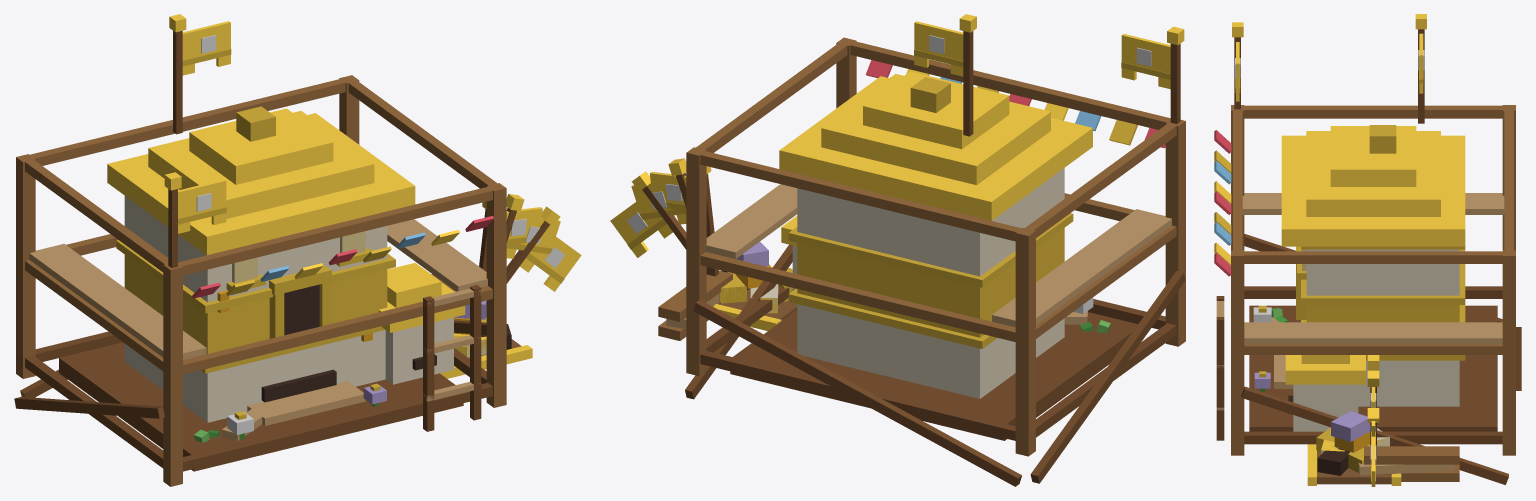
The model's file is bee-home.glb.
3 renders of one model, left to right at view 1: azimuth 30°, elevation 25°; view 2: azimuth 150°, elevation 25°; view 3: azimuth 270°, elevation 25°, orthographic. The views are drawn at different scales.
Visible parts, largest first — view 1: scaffold-mesh, built-mesh, dismantle-50-mesh, dismantle-75-mesh, dismantle-25-mesh, banner, scaffold-banner, dismantle-25-banner, flag-pole, dismantle-50-banner, scaffold-flag-pole, dismantle-25-flag-pole (+1 smaller); view 2: scaffold-mesh, built-mesh, dismantle-50-mesh, dismantle-75-mesh, banner, scaffold-banner, dismantle-25-banner, dismantle-25-mesh, flag-pole, dismantle-50-banner, scaffold-flag-pole, dismantle-75-banner (+1 smaller); view 3: scaffold-mesh, built-mesh, dismantle-50-mesh, dismantle-75-mesh, dismantle-25-mesh, flag-pole, scaffold-flag-pole, banner.
Part boxes in pixels (x1,y1,x2,y2): scaffold-mesh: (14, 75, 506, 486); built-mesh: (107, 106, 465, 471); dismantle-50-mesh: (59, 257, 532, 454); dismantle-75-mesh: (116, 196, 532, 442); dismantle-25-mesh: (201, 291, 526, 441); banner: (182, 21, 231, 75); scaffold-banner: (178, 179, 226, 233); dismantle-25-banner: (520, 229, 581, 291); flag-pole: (169, 14, 186, 134); dismantle-50-banner: (506, 215, 560, 263); scaffold-flag-pole: (164, 172, 181, 267); dismantle-25-flag-pole: (506, 206, 560, 283); scaffold-mesh: (658, 37, 1185, 486); built-mesh: (730, 71, 1110, 440); dismantle-50-mesh: (719, 216, 1137, 423); dismantle-75-mesh: (713, 168, 1110, 398); banner: (914, 21, 963, 76); scaffold-banner: (1121, 34, 1170, 89); dismantle-25-banner: (610, 197, 672, 257); dismantle-25-mesh: (719, 242, 1110, 331); flag-pole: (959, 14, 976, 136); dismantle-50-banner: (631, 181, 686, 229); scaffold-flag-pole: (1167, 26, 1184, 123); dismantle-75-banner: (649, 172, 686, 211); scaffold-mesh: (1214, 105, 1521, 484); built-mesh: (1249, 125, 1497, 431); dismantle-50-mesh: (1249, 305, 1497, 485); dismantle-75-mesh: (1253, 246, 1465, 485); dismantle-25-mesh: (1253, 309, 1398, 485); flag-pole: (1415, 14, 1426, 123); scaffold-flag-pole: (1232, 22, 1243, 109); banner: (1418, 33, 1424, 93).
Size of the model in its own units: 2.74 by 2.11 by 1.61.
